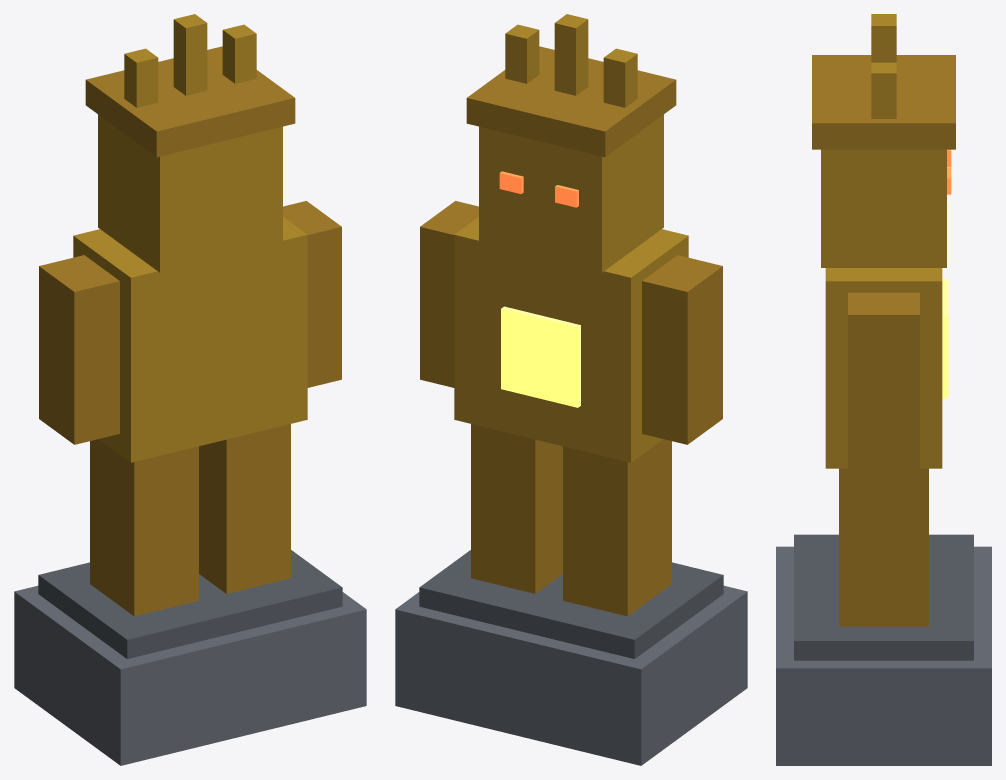
The model's file is dba-gold-statue.glb.
The picture shows the model from 3 angles, left to right: view 1: azimuth 30°, elevation 25°; view 2: azimuth 150°, elevation 25°; view 3: azimuth 270°, elevation 25°; orthographic projection.
Parts seen in each view (by area): view 1: box-prop; view 2: box-prop; view 3: box-prop.
Boxes of the visible parts, box(x1,y1,x2,y2) form: box-prop: box(14, 14, 366, 765); box-prop: box(395, 14, 747, 765); box-prop: box(776, 14, 991, 765).
Size of the model in its own units: 1.74 by 4.2 by 1.2.
